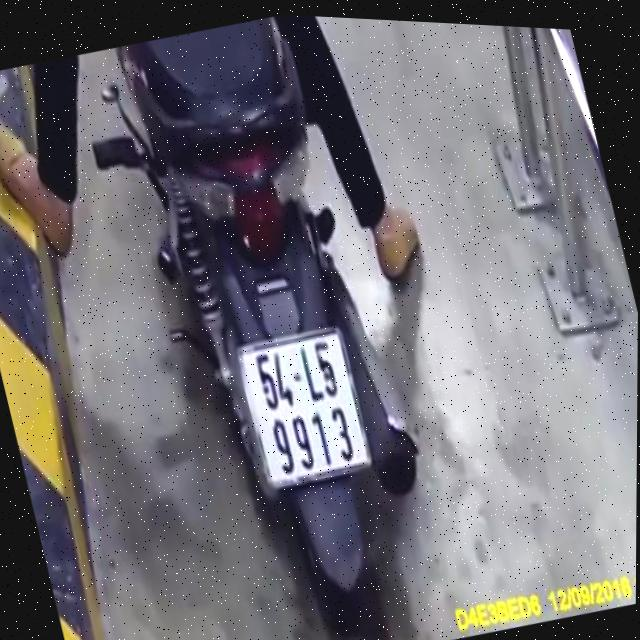motorcycle: (60, 3, 474, 640)
plate: (223, 314, 379, 501)
